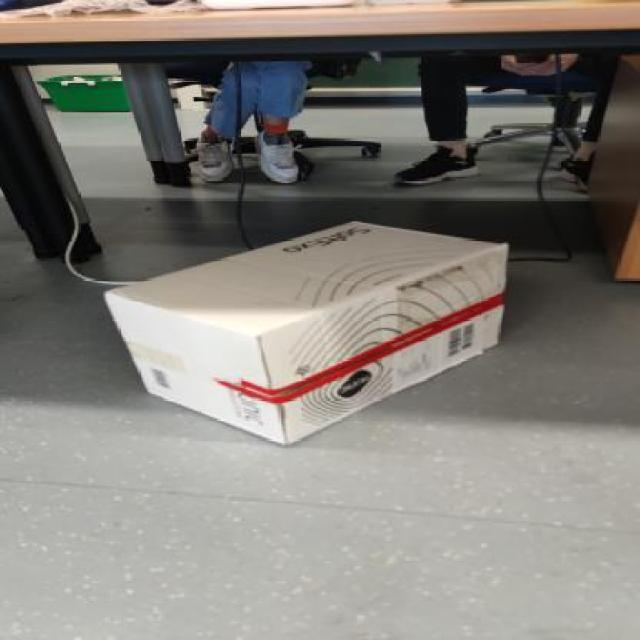box: (64, 196, 598, 438)
